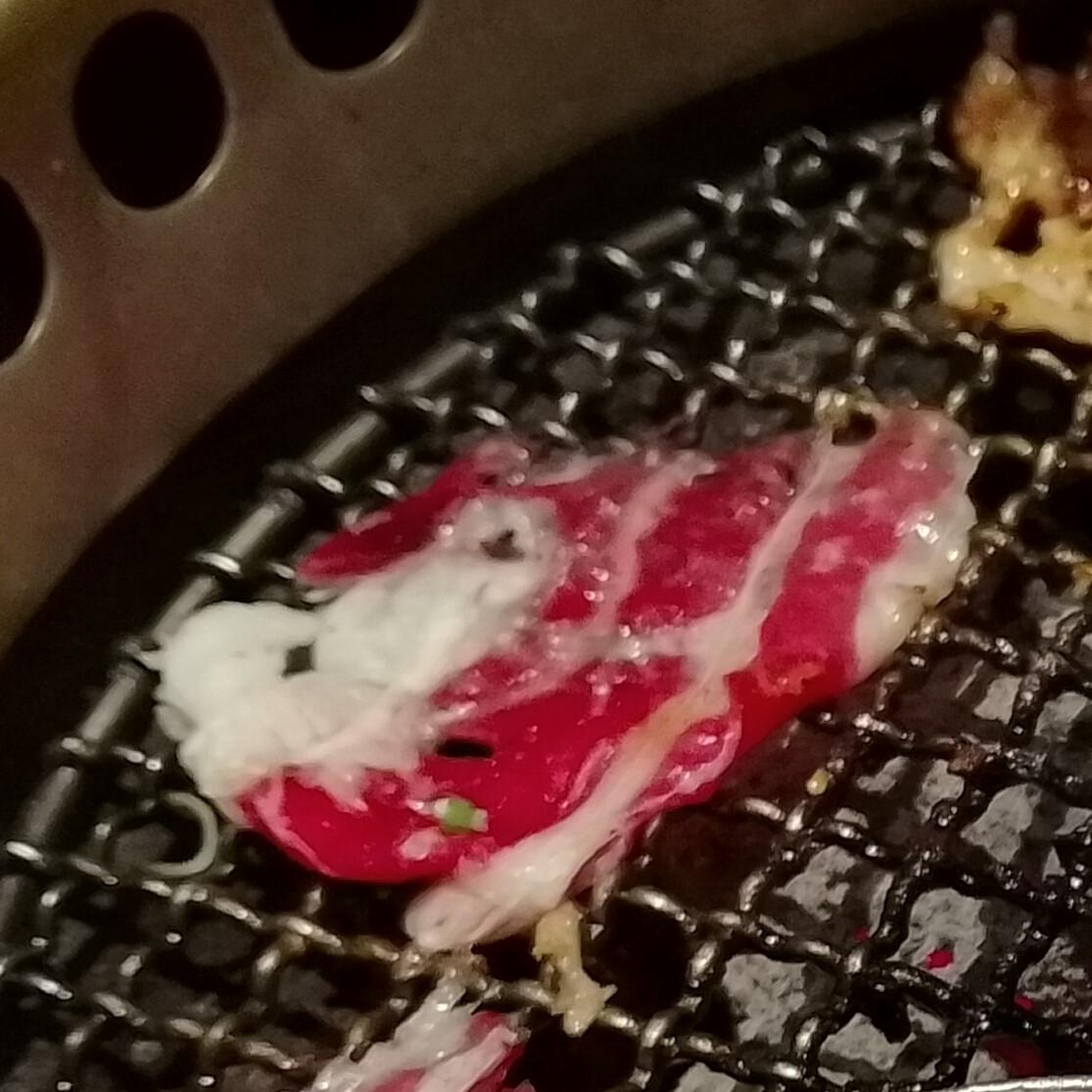Undercooked: (150, 404, 973, 952)
